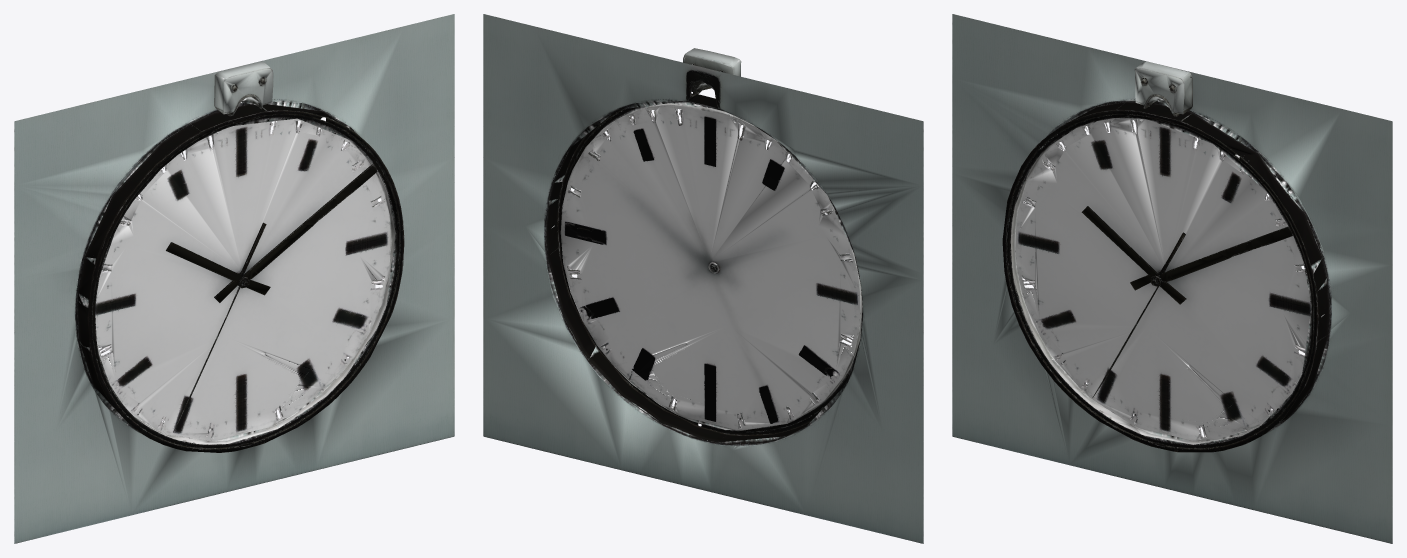
Rendered from wall-clock-analog.glb.
The picture shows the model from 3 angles, left to right: view 1: azimuth 30°, elevation 25°; view 2: azimuth 150°, elevation 25°; view 3: azimuth 330°, elevation 25°; orthographic projection.
Parts seen in each view (by area): view 1: geometry_0; view 2: geometry_0; view 3: geometry_0.
Boxes of the visible parts, x1,y1,x2,y2 form: geometry_0: (14,14,454,543); geometry_0: (483,14,923,543); geometry_0: (952,14,1392,543).
Bounding box in the file's own units: 1 × 0.9287 × 0.062.
Materials: 1 (1 with a texture image).
